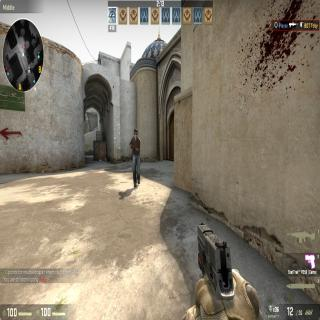T-Body: (130, 127, 140, 188)
T-Head: (133, 128, 138, 139)
